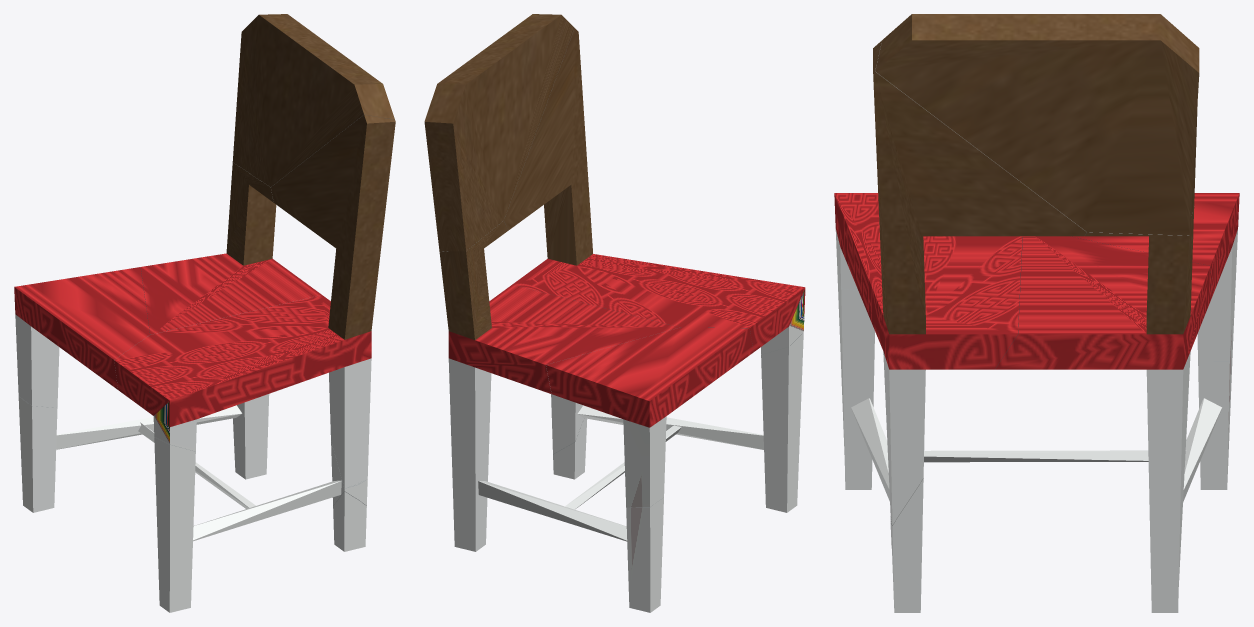
File: Ghe_Piano_Fractured.fbx
3 renders of one model, left to right at view 1: azimuth 30°, elevation 25°; view 2: azimuth 150°, elevation 25°; view 3: azimuth 270°, elevation 25°, orthographic. The views are drawn at different scales.
Visible parts, largest first — view 1: ghe_piano_cell.005, ghe_piano_cell.001, ghe_piano_cell, ghe_piano_cell.002, ghe_piano_cell.004, ghe_piano_cell.003, ghe_piano.001, ghe_piano.002, ghe_piano_cell.007, ghe_piano.003, ghe_piano_cell.006; view 2: ghe_piano_cell.005, ghe_piano_cell, ghe_piano_cell.001, ghe_piano_cell.002, ghe_piano_cell.004, ghe_piano_cell.003, ghe_piano.002, ghe_piano.001, ghe_piano_cell.006, ghe_piano_cell.007, ghe_piano.003; view 3: ghe_piano_cell.001, ghe_piano_cell.005, ghe_piano_cell, ghe_piano_cell.002, ghe_piano_cell.004, ghe_piano_cell.003, ghe_piano.003, ghe_piano_cell.006, ghe_piano.001, ghe_piano.002, ghe_piano_cell.007.
Boxes of the visible parts, <box> form: ghe_piano_cell.005: <box>114,114,395,488</box>; ghe_piano_cell.001: <box>232,14,394,186</box>; ghe_piano_cell: <box>140,162,321,479</box>; ghe_piano_cell.002: <box>14,267,149,407</box>; ghe_piano_cell.004: <box>154,437,195,612</box>; ghe_piano_cell.003: <box>18,396,57,512</box>; ghe_piano.001: <box>193,480,341,541</box>; ghe_piano.002: <box>56,405,242,449</box>; ghe_piano_cell.007: <box>333,491,366,551</box>; ghe_piano.003: <box>138,422,255,508</box>; ghe_piano_cell.006: <box>331,441,367,505</box>; ghe_piano_cell.005: <box>503,28,805,354</box>; ghe_piano_cell: <box>439,221,679,551</box>; ghe_piano_cell.001: <box>424,14,574,251</box>; ghe_piano_cell.002: <box>546,327,753,507</box>; ghe_piano_cell.004: <box>761,333,803,512</box>; ghe_piano_cell.003: <box>626,497,663,612</box>; ghe_piano.002: <box>478,481,627,541</box>; ghe_piano.001: <box>577,405,763,449</box>; ghe_piano_cell.006: <box>551,394,583,453</box>; ghe_piano_cell.007: <box>553,418,587,479</box>; ghe_piano.003: <box>564,425,681,509</box>; ghe_piano_cell.001: <box>875,14,1199,235</box>; ghe_piano_cell.005: <box>834,40,1086,524</box>; ghe_piano_cell: <box>995,206,1211,612</box>; ghe_piano_cell.002: <box>1071,193,1239,360</box>; ghe_piano_cell.004: <box>836,253,874,489</box>; ghe_piano_cell.003: <box>1198,336,1233,489</box>; ghe_piano.003: <box>924,450,1186,462</box>; ghe_piano_cell.006: <box>890,478,923,586</box>; ghe_piano.001: <box>851,398,889,501</box>; ghe_piano.002: <box>1183,398,1221,502</box>; ghe_piano_cell.007: <box>892,551,921,612</box>.
Bounding box in the file's own units: 328 × 591 × 364.
